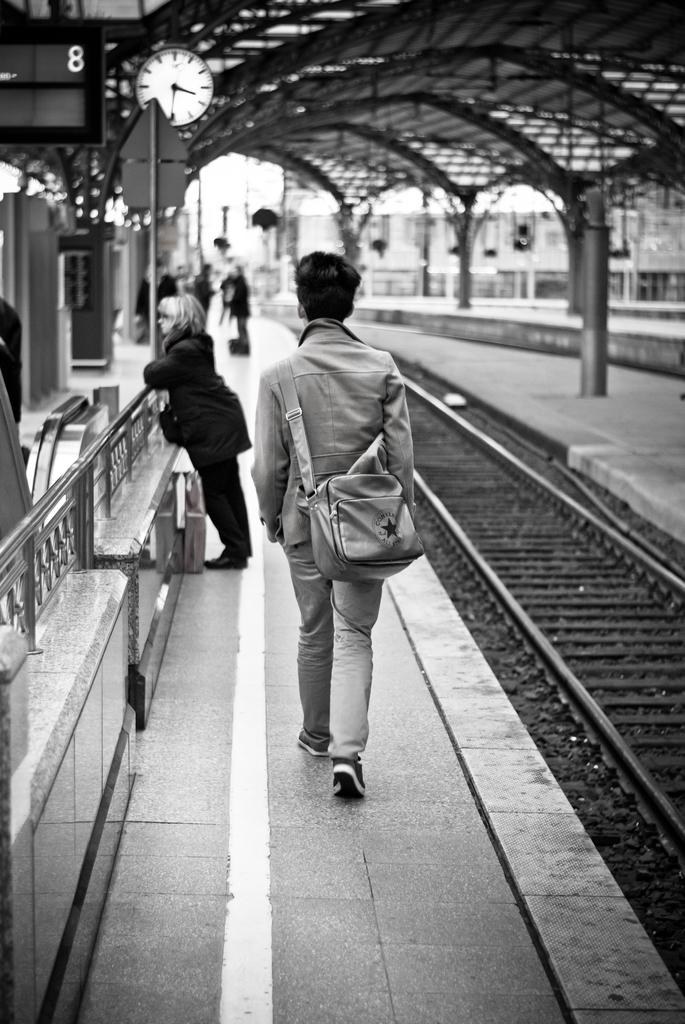Luggage-and-bags: (281, 358, 424, 580)
